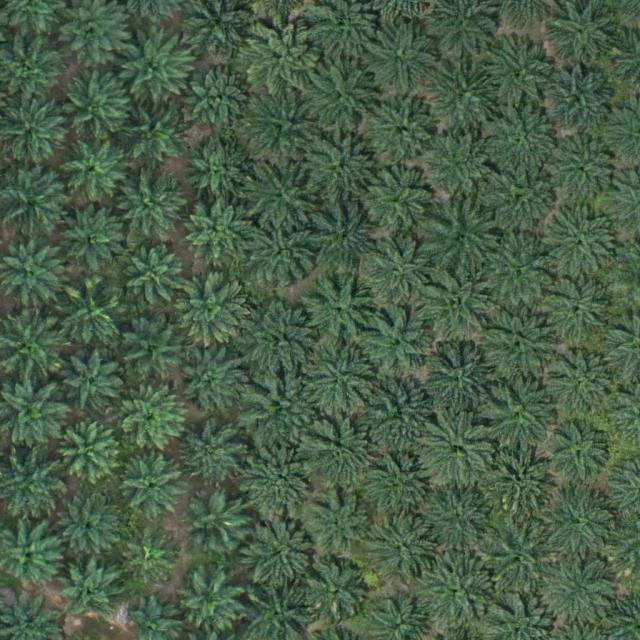Healthy: (247, 27, 325, 106), (174, 267, 252, 346), (171, 340, 249, 419), (244, 303, 322, 382), (244, 372, 322, 451), (366, 20, 444, 99), (426, 58, 504, 137), (307, 197, 385, 276), (424, 201, 502, 280), (417, 267, 495, 346), (422, 347, 500, 426), (480, 307, 558, 386), (480, 234, 558, 313), (484, 161, 562, 240), (484, 109, 562, 188), (243, 441, 321, 520), (299, 419, 377, 498), (418, 550, 496, 629), (419, 412, 497, 491), (487, 438, 565, 517), (481, 515, 559, 594), (541, 557, 619, 636), (541, 488, 619, 567), (116, 33, 194, 111), (249, 154, 327, 232), (304, 343, 382, 421), (239, 514, 317, 592), (61, 71, 132, 142), (304, 65, 375, 136), (307, 129, 378, 200), (419, 133, 490, 204), (551, 352, 622, 423), (117, 171, 187, 242), (118, 386, 188, 457), (249, 220, 319, 291), (368, 96, 438, 167), (364, 307, 435, 377), (365, 168, 435, 239), (549, 210, 619, 281), (543, 275, 613, 346), (420, 490, 490, 561), (181, 198, 251, 268), (302, 278, 372, 348), (365, 237, 435, 307), (486, 382, 556, 452), (60, 204, 123, 267), (64, 347, 127, 410), (124, 247, 187, 310), (542, 73, 605, 136), (490, 43, 553, 106), (559, 139, 622, 202), (374, 519, 437, 582), (62, 138, 124, 201), (124, 108, 186, 171), (120, 319, 183, 381), (190, 64, 252, 127), (187, 142, 249, 205), (253, 96, 315, 159), (179, 572, 241, 635), (123, 457, 185, 520), (60, 499, 122, 562), (60, 558, 122, 621), (304, 563, 366, 626), (307, 493, 369, 556), (362, 452, 425, 514), (548, 424, 610, 487), (181, 426, 243, 488), (186, 494, 248, 556), (59, 423, 121, 485), (369, 381, 431, 443), (124, 533, 179, 588)
Yellow: (56, 282, 126, 353)
